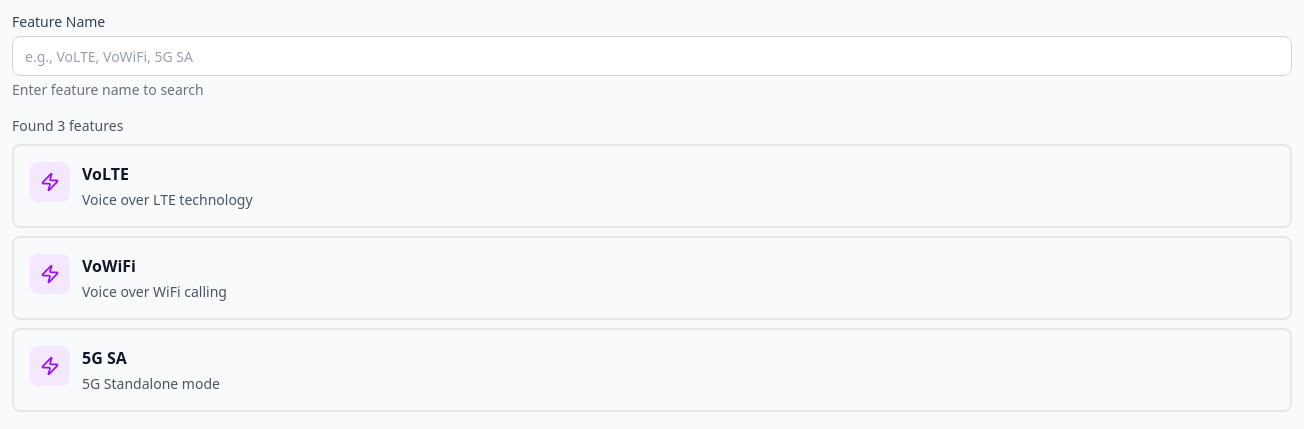
Test: FeatureSearch › Search filtering › updates query when search term is entered
This screenshot has width=1304, height=429.
Click the field labelled "Feature Name" at (652, 56), box [12, 36, 1292, 76]
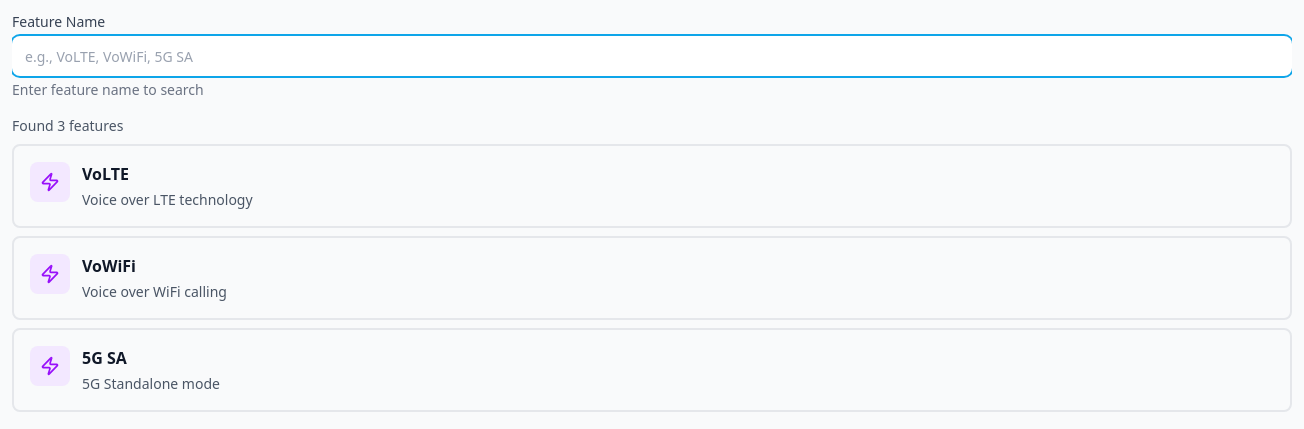
Type keys "VoLTE"
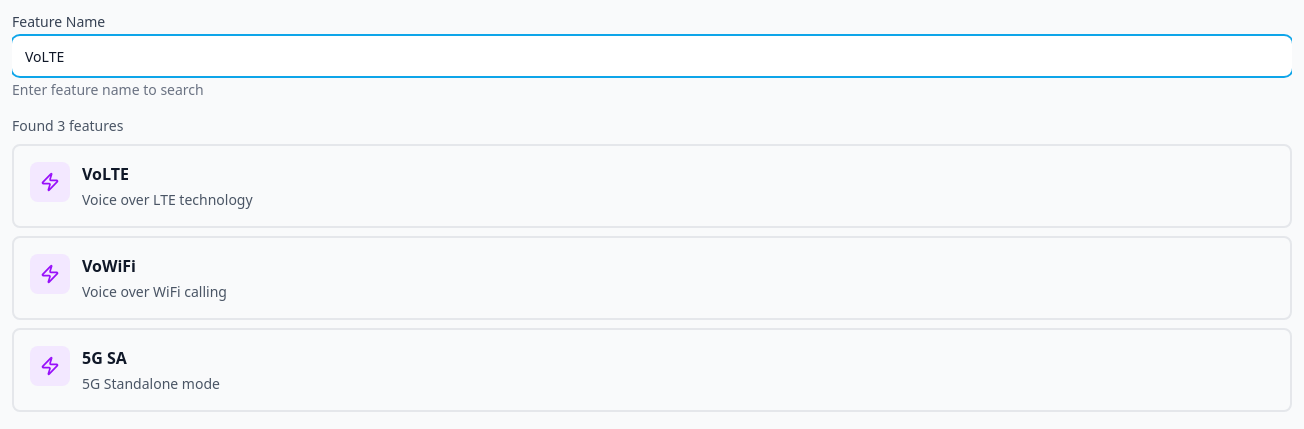
Expected: the field labelled "Feature Name" holds "VoLTE", [12, 36, 1292, 76]
